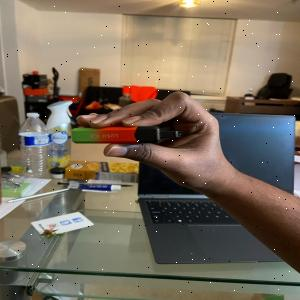Swift-E-Ciggirate: (68, 123, 182, 145)
